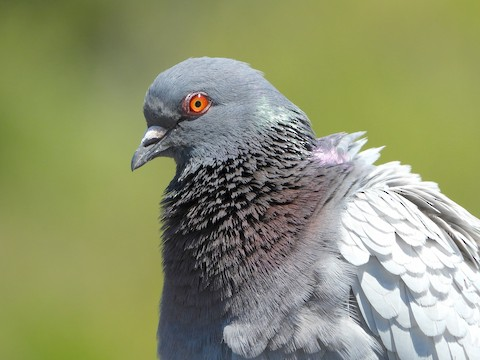pigeon: (123, 50, 474, 355)
